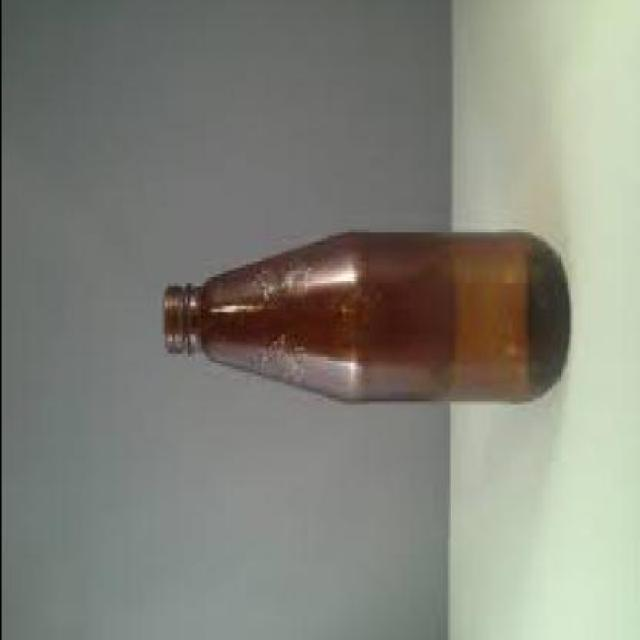GLASS: (160, 232, 566, 411)
